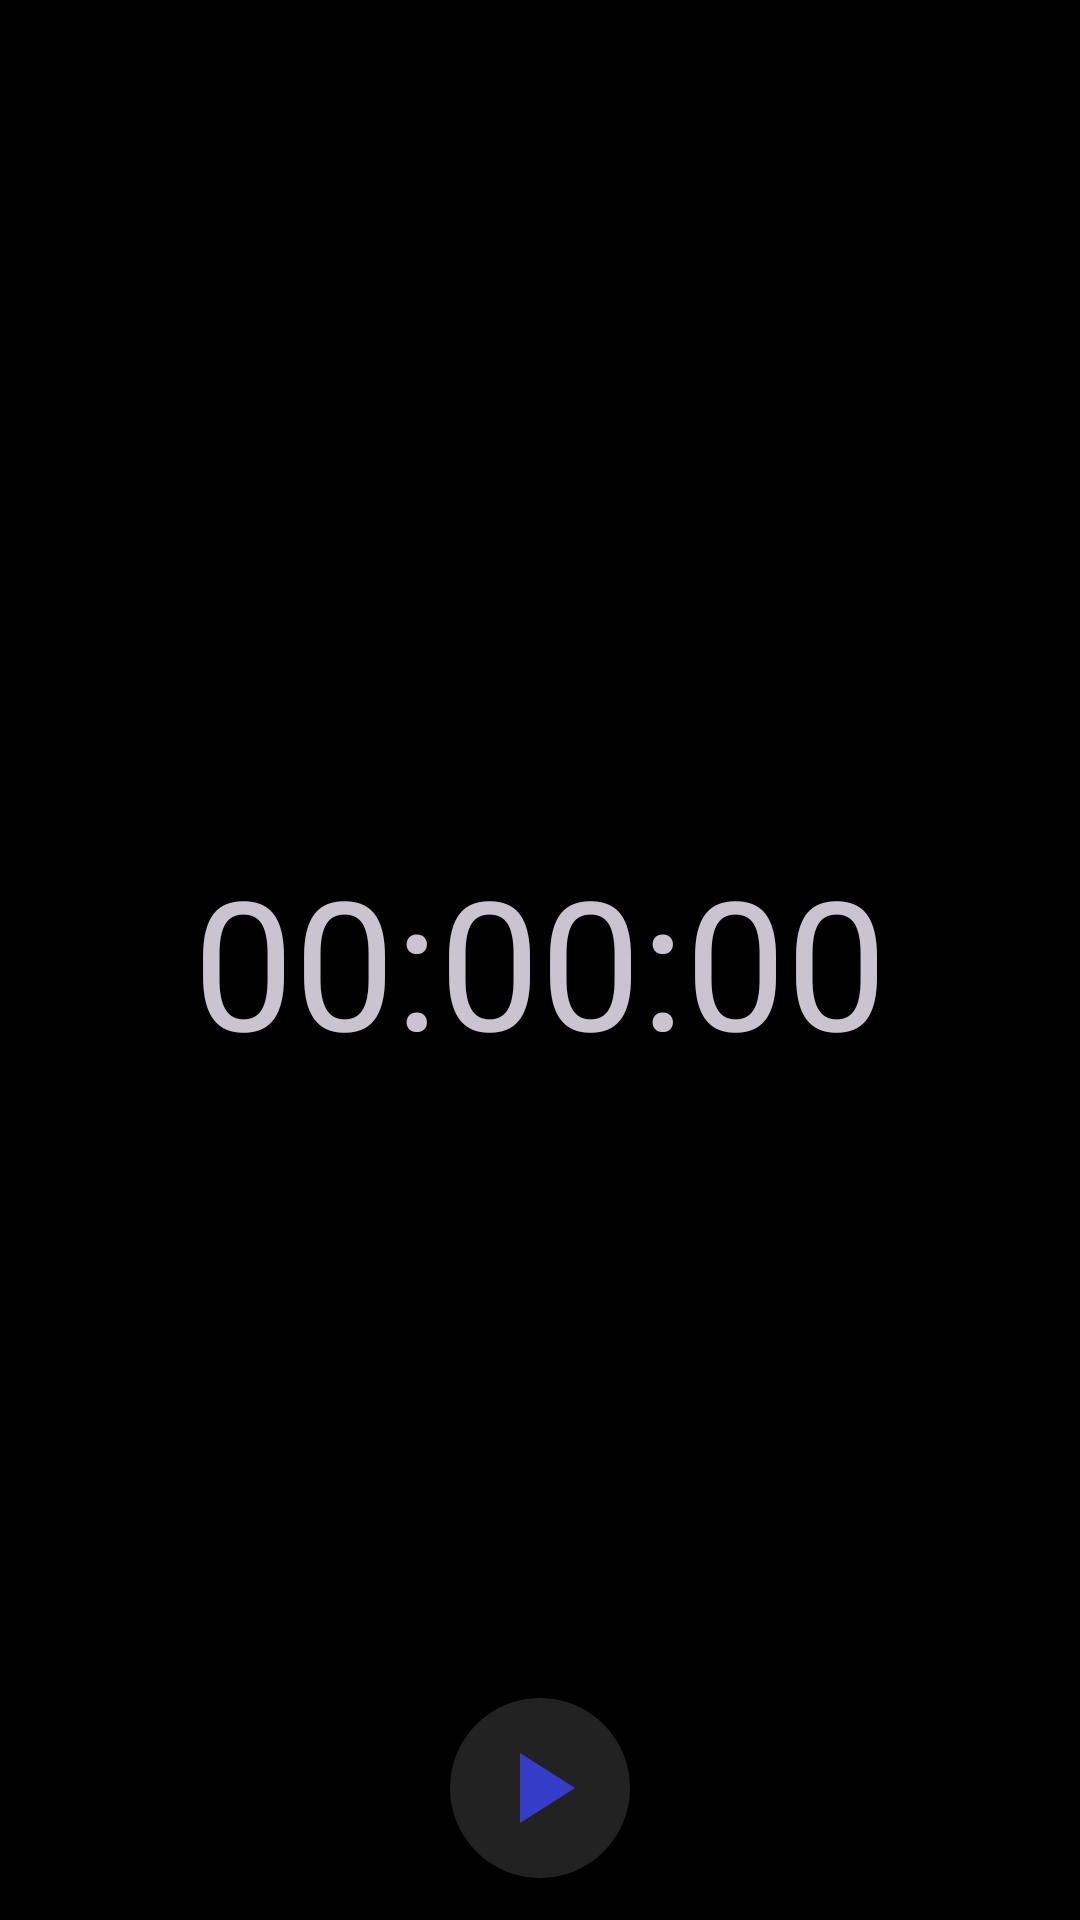

Where icons sit on this 1080×1920 app screen, as (x1, y1, x2, y2):
start: (450, 1698, 630, 1878)
